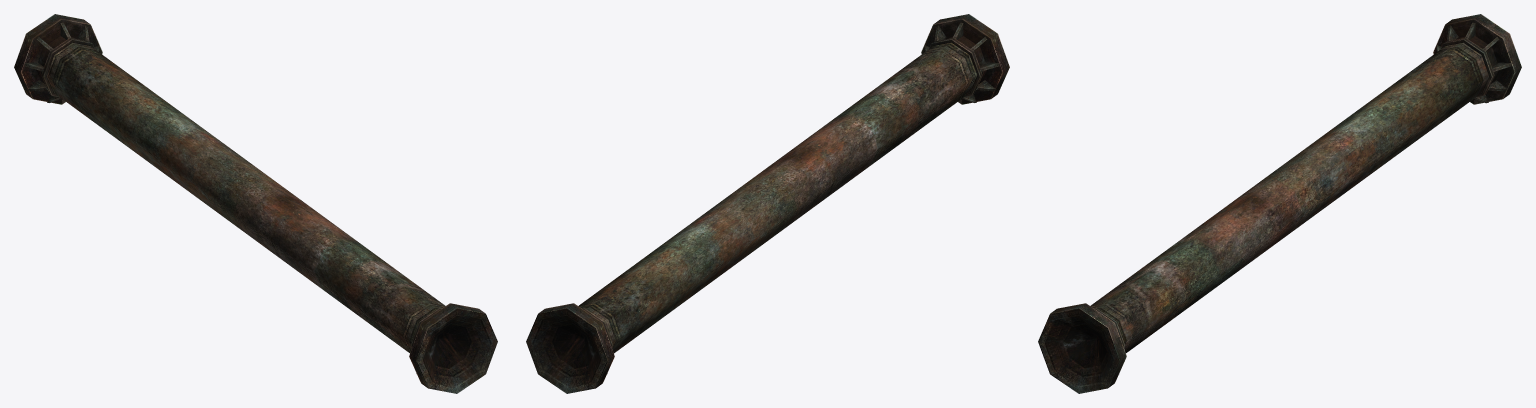
The model's file is pipe_large2_long_pplant.dae.
The picture shows the model from 3 angles, left to right: view 1: azimuth 30°, elevation 25°; view 2: azimuth 150°, elevation 25°; view 3: azimuth 330°, elevation 25°; orthographic projection.
Visible parts, largest first — view 1: pipe_large2_long_pplant__2___2_; view 2: pipe_large2_long_pplant__2___2_; view 3: pipe_large2_long_pplant__2___2_.
Part boxes in pixels (box(x1,y1,x2,y2)): pipe_large2_long_pplant__2___2_: box(14, 14, 497, 393); pipe_large2_long_pplant__2___2_: box(526, 14, 1009, 393); pipe_large2_long_pplant__2___2_: box(1038, 14, 1521, 393).
Size of the model in its own units: 0.4703 by 0.4703 by 4.
